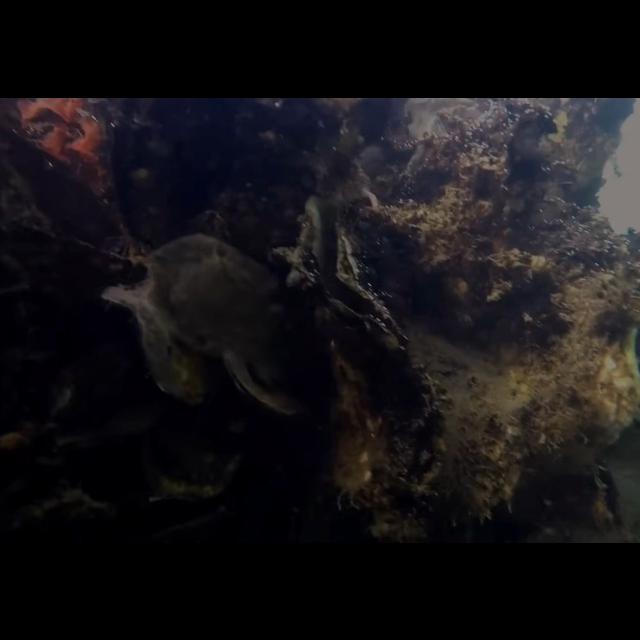Oyster-Closed: (146, 234, 324, 420)
Oyster-Open: (273, 193, 413, 359)
